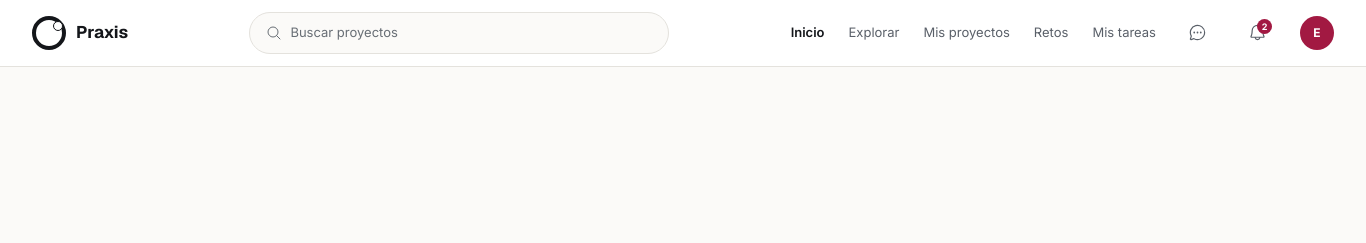
it: Navbar — notification dropdown › marks every notification as read via 'Marcar todas como leídas'
This screenshot has width=1366, height=243.
Later steps or results of the test are not shown.
Click the button named "Notificaciones" at point(1258, 33), box [1240, 15, 1276, 51]
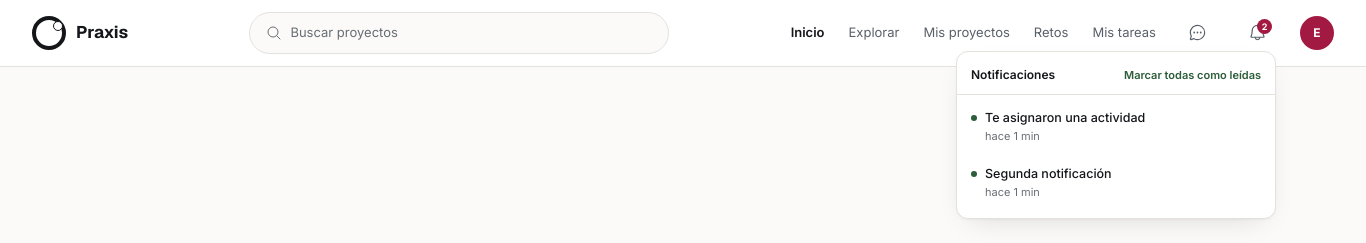
Result: the text "Te asignaron una actividad" is shown at [985, 110, 1145, 125]
